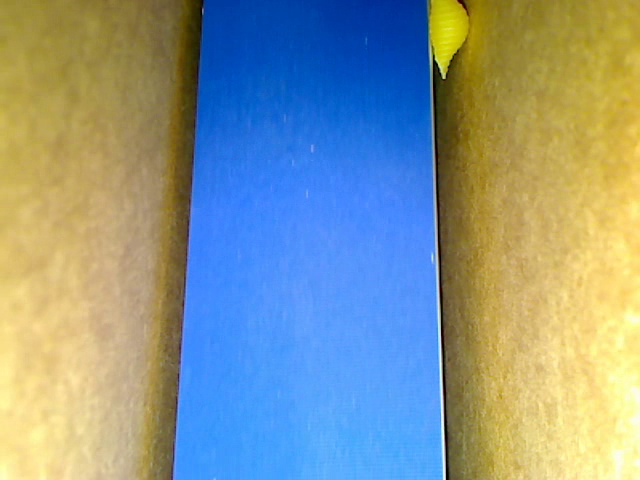shell: (426, 1, 472, 82)
